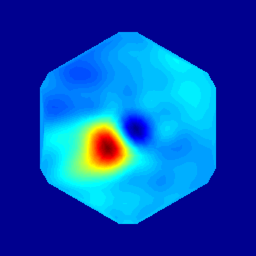ship: (115, 122, 149, 145)
wave: (69, 125, 126, 156)
